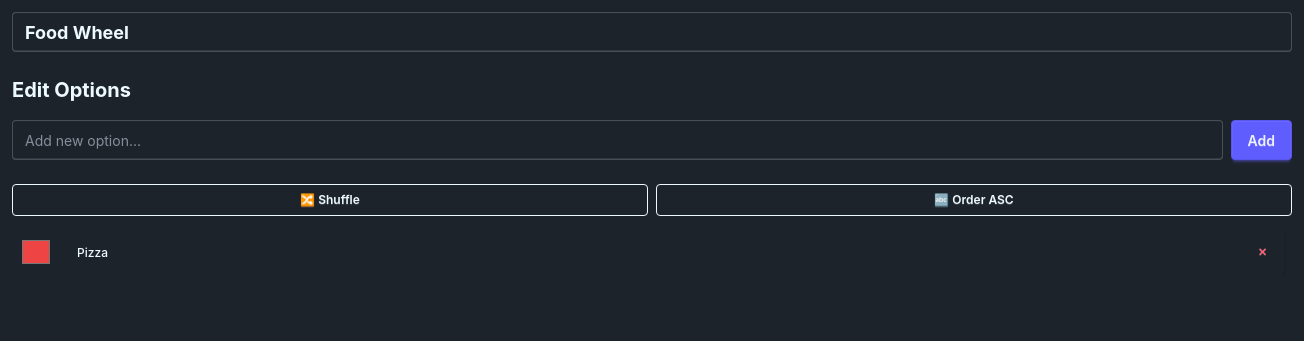
SegmentEditor › adds a segment when Enter is pressed in the input
Type "Pasta" into the field with placeholder "Add new option..." at (617, 140), box [12, 120, 1222, 160]
Then press Enter
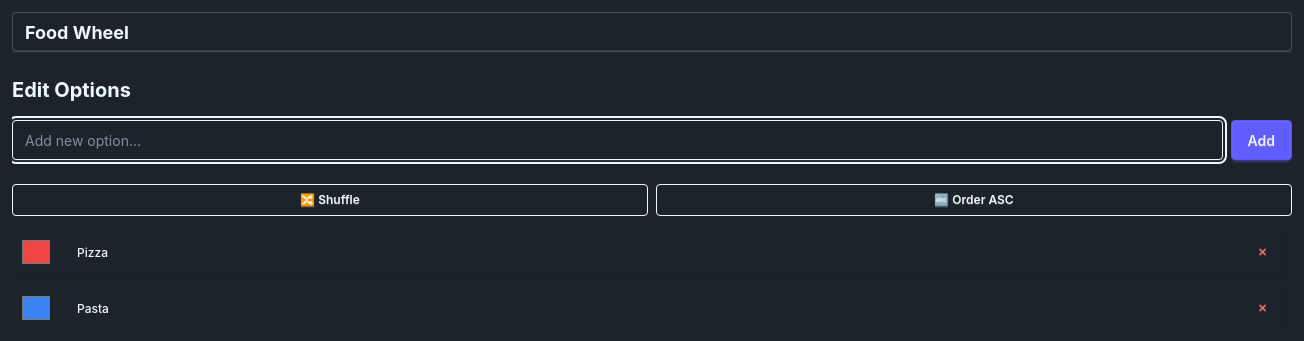
Now the 3rd field showing "Pasta" is shown, box [64, 292, 1233, 324]
